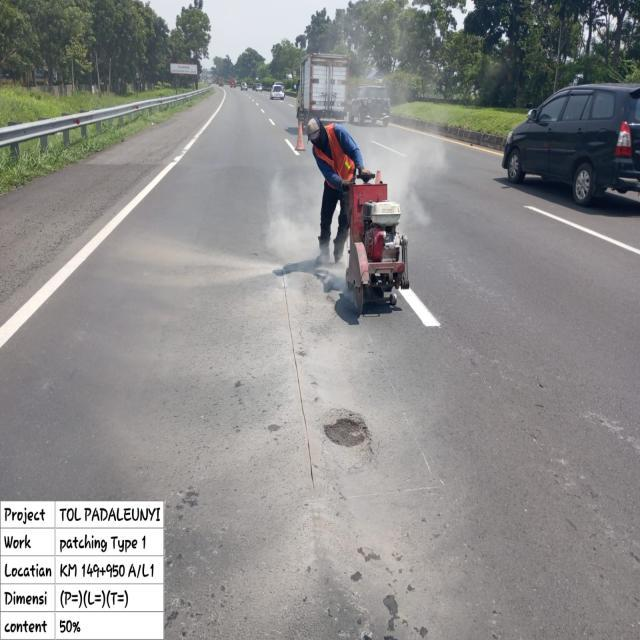Buraco: (311, 406, 379, 475)
